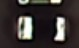COMP: (13, 10, 74, 45)
GAP: (18, 1, 61, 26)
